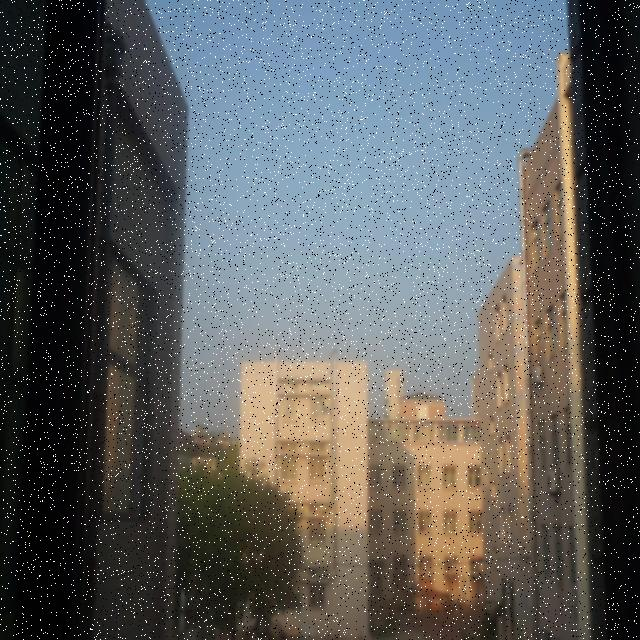UAV: (319, 400, 332, 416)
